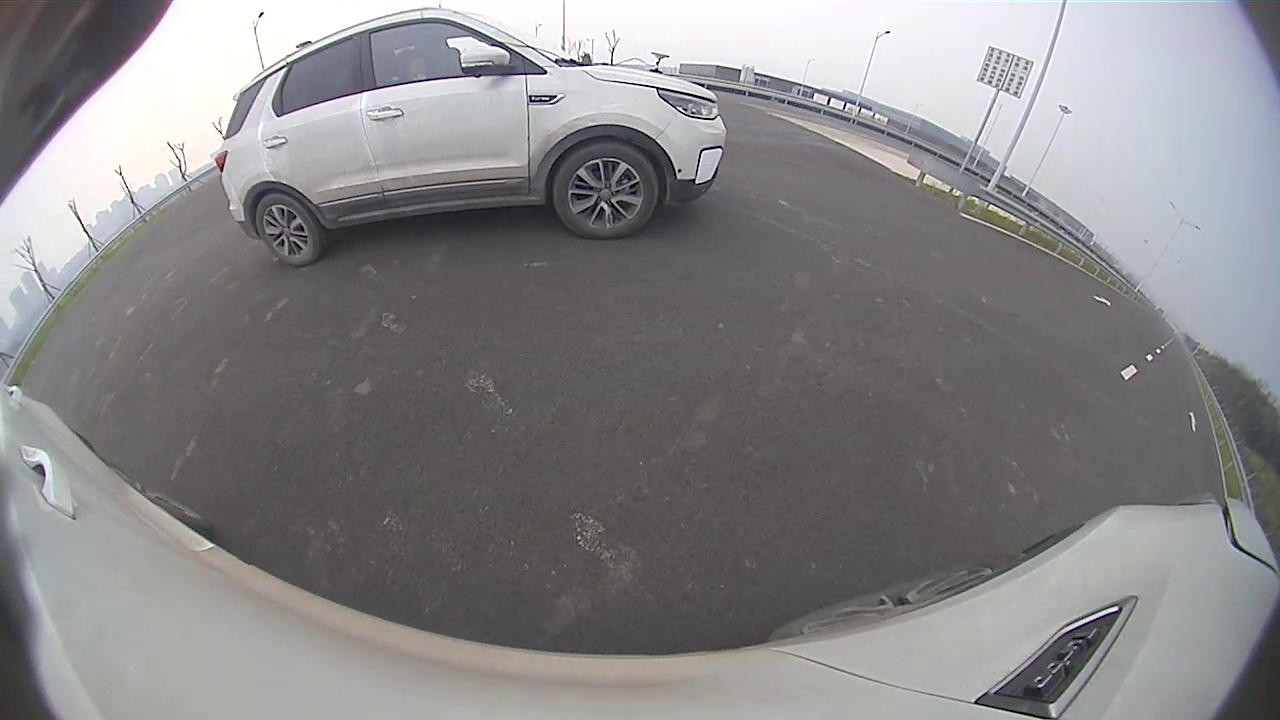car: (214, 7, 730, 269)
front: (552, 141, 661, 241)
rear: (254, 193, 322, 269)
